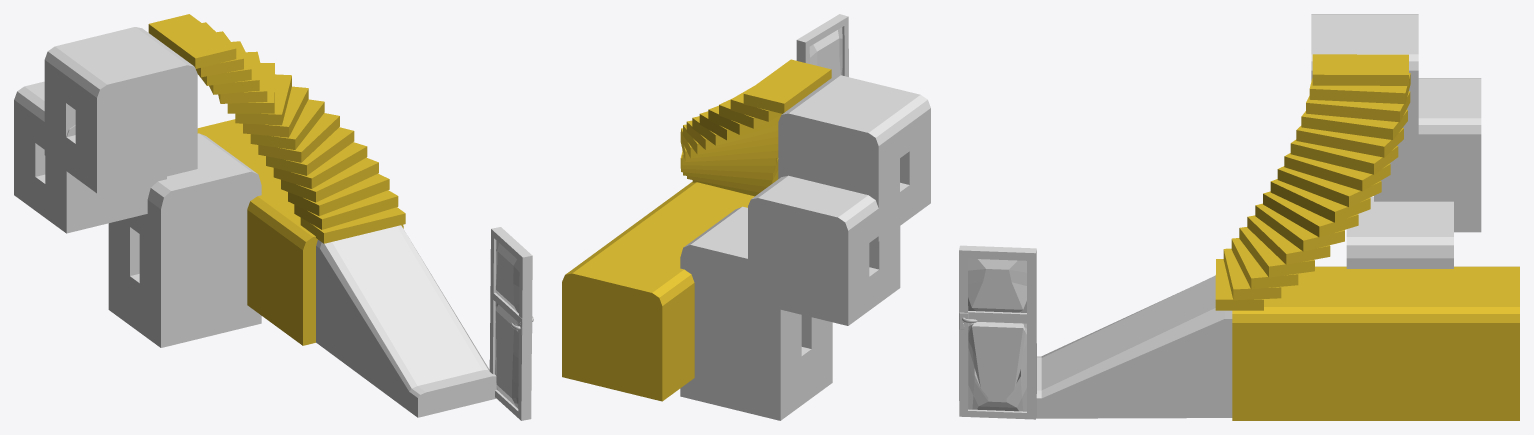
3 views of the same model, side by side, from view 1: azimuth 30°, elevation 25°; view 2: azimuth 150°, elevation 25°; view 3: azimuth 270°, elevation 25° (orthographic). The views are drawn at different scales.
Visible parts, largest first — view 1: Hedge_Inset_Single_Cube.006, Hedge_Ramp_Cube.012, Hedge_Inset_Single_Cube.004, FFORM.002, Hedge_Inset_Single_Cube.003, Hedge_Inset_Single_Cube.005, Cube.006; view 2: Hedge_Inset_Single_Cube.003, Hedge_Inset_Single_Cube.006, Hedge_Inset_Single_Cube.005, Hedge_Inset_Single_Cube.004, FFORM.002, Cube.006; view 3: Hedge_Inset_Single_Cube.003, FFORM.002, Hedge_Ramp_Cube.012, Cube.006, Hedge_Inset_Single_Cube.005, Hedge_Inset_Single_Cube.006, Hedge_Inset_Single_Cube.004.
Boxes of the visible parts, box(x1,y1,x2,y2) form: Hedge_Inset_Single_Cube.006: box(108, 133, 261, 347); Hedge_Ramp_Cube.012: box(316, 225, 496, 417); Hedge_Inset_Single_Cube.004: box(44, 27, 197, 193); FFORM.002: box(148, 14, 405, 243); Hedge_Inset_Single_Cube.003: box(197, 119, 403, 345); Hedge_Inset_Single_Cube.005: box(14, 81, 166, 233); Cube.006: box(489, 227, 532, 420); Hedge_Inset_Single_Cube.003: box(562, 182, 754, 401); Hedge_Inset_Single_Cube.006: box(680, 206, 832, 420); Hedge_Inset_Single_Cube.005: box(748, 175, 900, 325); Hedge_Inset_Single_Cube.004: box(778, 75, 930, 241); FFORM.002: box(680, 59, 831, 196); Cube.006: box(796, 14, 848, 77); Hedge_Inset_Single_Cube.003: box(1232, 266, 1519, 420); FFORM.002: box(1215, 54, 1410, 310); Hedge_Ramp_Cube.012: box(1036, 275, 1232, 418); Cube.006: box(959, 245, 1036, 419); Hedge_Inset_Single_Cube.005: box(1374, 78, 1481, 232); Hedge_Inset_Single_Cube.006: box(1346, 197, 1453, 268); Hedge_Inset_Single_Cube.004: box(1311, 14, 1418, 168).
Bounding box in the file's own units: 4244 × 4481 × 7477.
